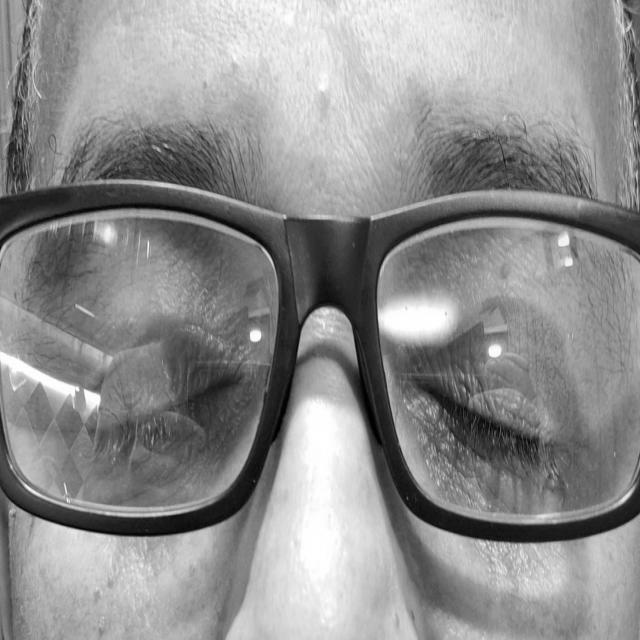real: (18, 188, 600, 560)
